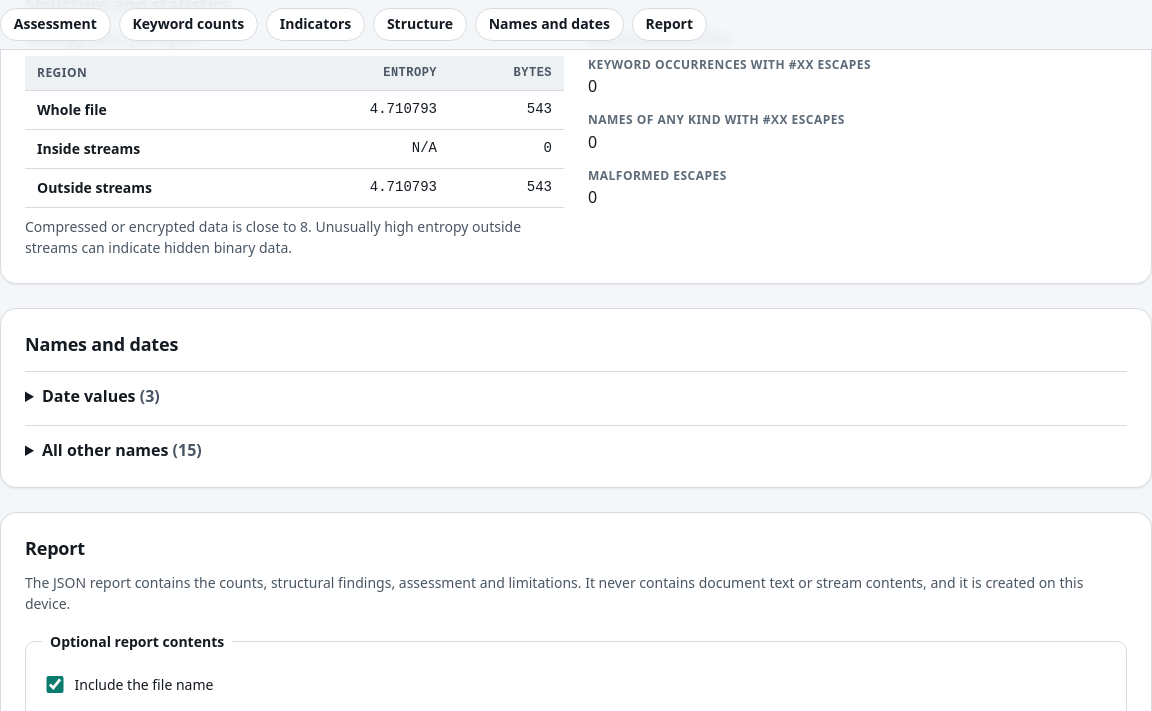
Scenario: ScanResults › lists names and dates on request
The width and height of the screenshot is (1152, 711).
(page scrolled)
Step 1. Click the heading "Date values (3)" → (101, 396), box x1=42 y1=385 x2=160 y2=407
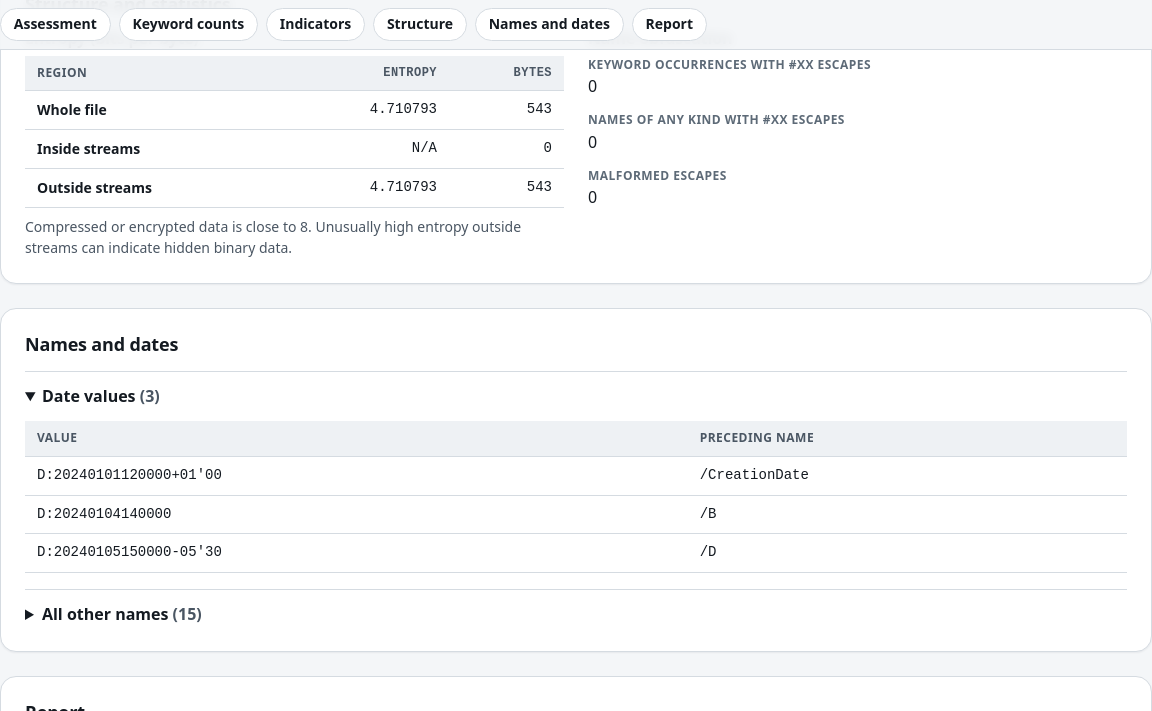
Expected: the text "D:20240101120000+01'00" is shown, x1=25 y1=457 x2=688 y2=495
Step 2. Click the heading "All other names (15)" → (122, 614), box x1=42 y1=603 x2=202 y2=625
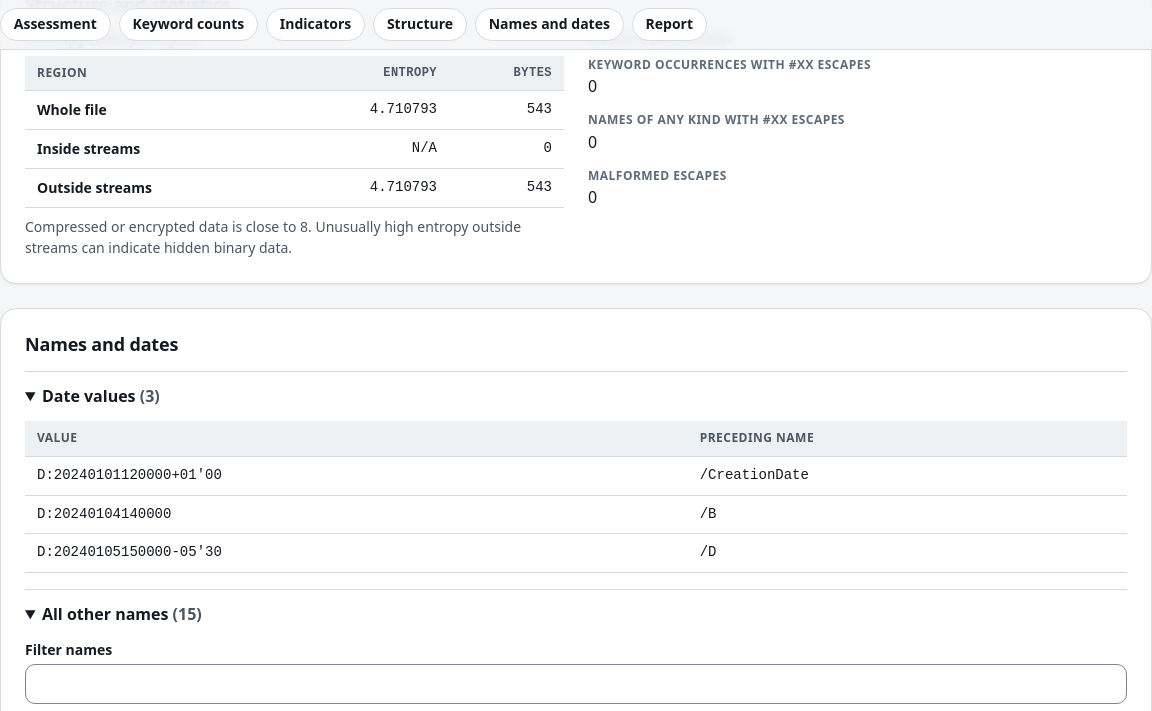
Step 3. Type "creation" into the search field labelled "Filter names" → (576, 684), box x1=25 y1=664 x2=1127 y2=704
(page scrolled)
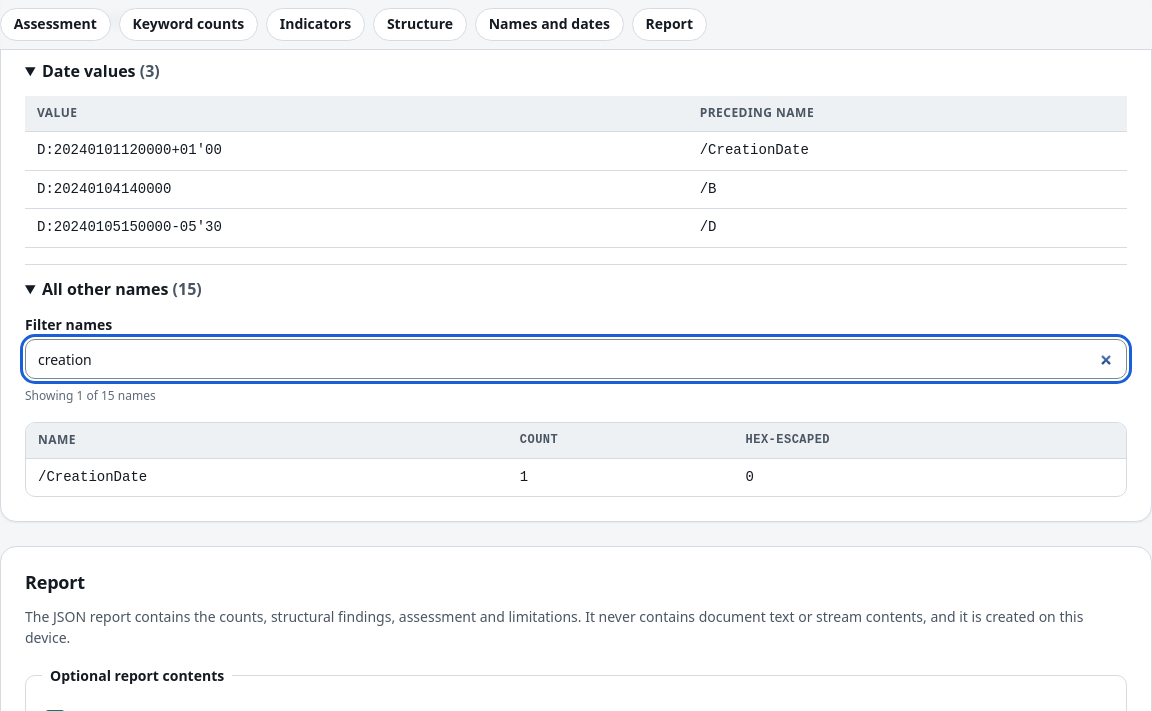
Expected: the text "Showing 1 of" reads "Showing 1 of 15 names", x1=25 y1=387 x2=156 y2=404
